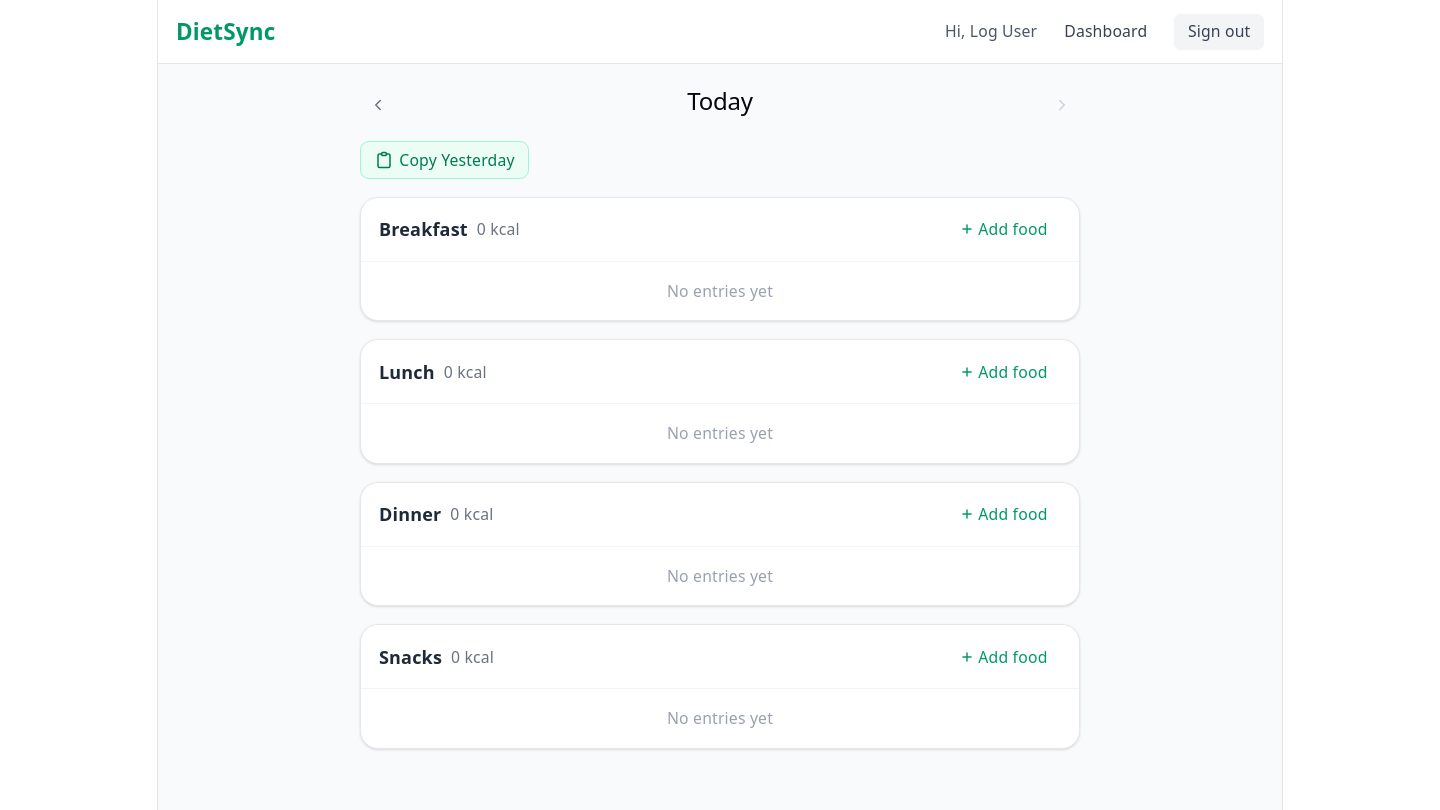
Scenario: FoodSearchModal — search results › search results contain only items matching the query (case-insensitive)
The width and height of the screenshot is (1440, 810).
# Open the modal for breakfast
Click the button with aria-label "add food to breakfast".
click(1004, 229)  # box x1=946 y1=211 x2=1061 y2=247
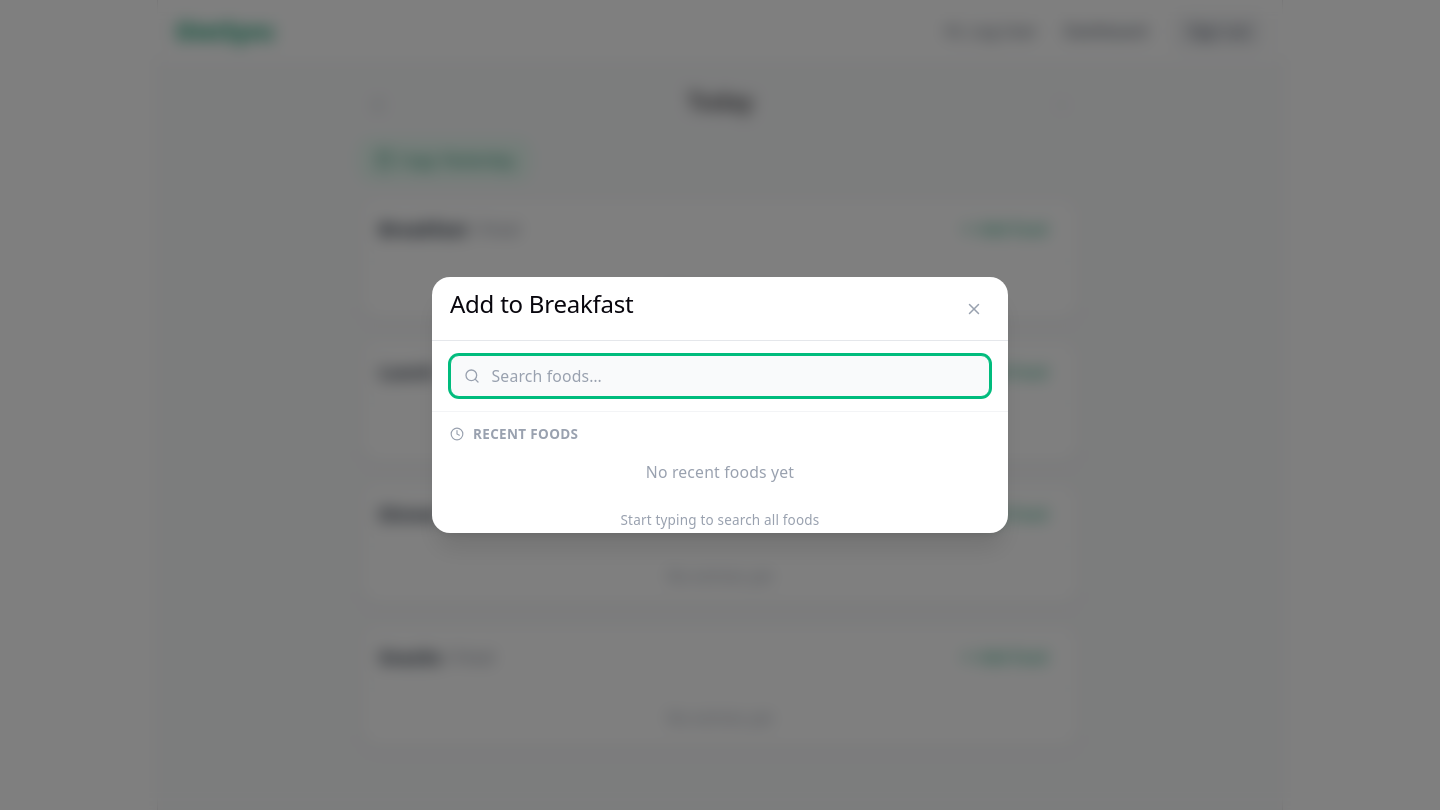
# Type a query — "rice" should match items with "rice" in name/category
Type "rice" into the search field labelled "Search foods…".
click(720, 376); type("rice")  # box x1=450 y1=355 x2=990 y2=397
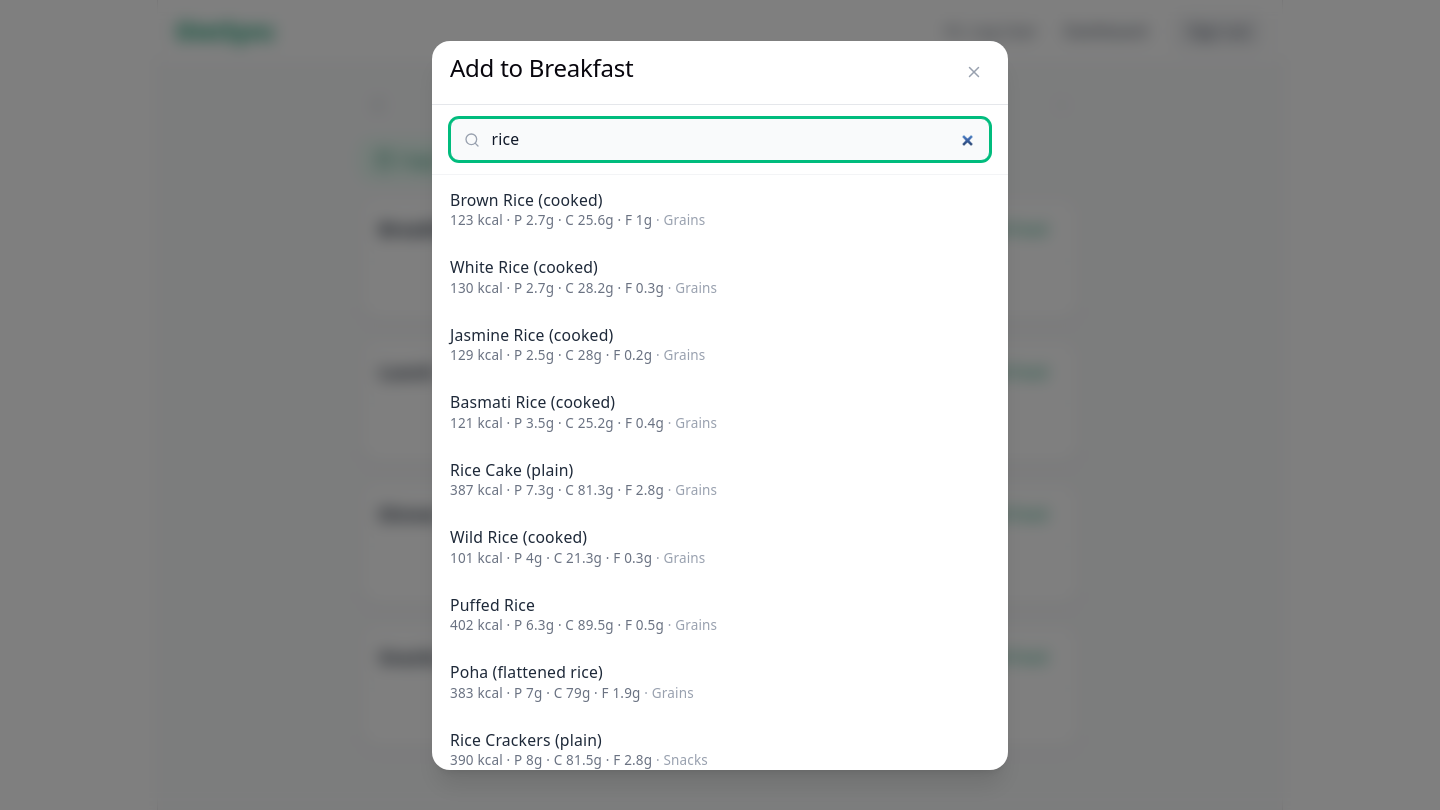
Expected: the option that starts with "Brown Rice (cooked)" is shown, x1=432 y1=175 x2=1008 y2=243
